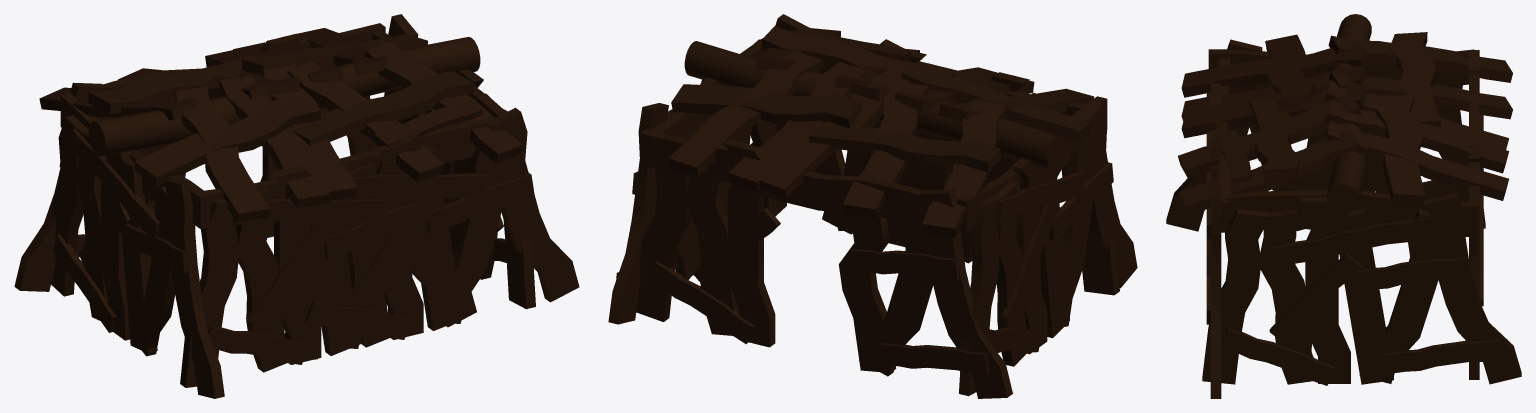
Rendered from dom1.fbx.
The picture shows the model from 3 angles, left to right: view 1: azimuth 30°, elevation 25°; view 2: azimuth 150°, elevation 25°; view 3: azimuth 270°, elevation 25°; orthographic projection. The views are drawn at different scales.
Parts seen in each view (by area): view 1: dom1 057, dom1 031, dom1 070, dom1 051, dom1 069, dom1 052, dom1 064, dom1 040, dom1 065, dom1 037, dom1 038, dom1 068 (+43 smaller); view 2: dom1 057, dom1 005, dom1 010, dom1 006, dom1 002, dom1 063, dom1 058, dom1 062, dom1 013, dom1 020, dom1 011, dom1 060 (+38 smaller); view 3: dom1 020, dom1 019, dom1 016, dom1 021, dom1 023, dom1 017, dom1 063, dom1 008, dom1 026, dom1 064, dom1 058, dom1 068 (+28 smaller).
Boxes of the visible parts, box(x1,y1,x2,y2) form: dom1 057: box(88, 37, 480, 156); dom1 031: box(164, 178, 224, 398); dom1 070: box(135, 95, 320, 186); dom1 051: box(487, 107, 579, 302); dom1 069: box(290, 71, 474, 145); dom1 052: box(426, 147, 506, 323); dom1 064: box(175, 86, 269, 222); dom1 040: box(180, 198, 238, 387); dom1 065: box(218, 75, 329, 207); dom1 037: box(270, 165, 321, 364); dom1 038: box(236, 187, 287, 372); dom1 068: box(365, 42, 523, 162); dom1 057: box(684, 41, 1063, 171); dom1 005: box(640, 129, 956, 227); dom1 010: box(919, 189, 1012, 398); dom1 006: box(636, 142, 690, 321); dom1 002: box(724, 139, 775, 347); dom1 063: box(671, 84, 862, 128); dom1 058: box(668, 51, 824, 176); dom1 062: box(809, 122, 1001, 172); dom1 013: box(835, 187, 896, 372); dom1 020: box(608, 103, 668, 324); dom1 011: box(859, 205, 934, 376); dom1 060: box(843, 81, 928, 218); dom1 020: box(1425, 192, 1521, 384); dom1 019: box(1202, 209, 1269, 384); dom1 016: box(1300, 197, 1350, 383); dom1 021: box(1359, 209, 1450, 383); dom1 023: box(1337, 209, 1393, 384); dom1 017: box(1258, 209, 1313, 384); dom1 063: box(1375, 95, 1425, 204); dom1 008: box(1225, 190, 1469, 236); dom1 026: box(1270, 217, 1434, 267); dom1 064: box(1181, 45, 1365, 97); dom1 058: box(1325, 120, 1508, 200); dom1 068: box(1178, 130, 1362, 215).
Size of the model in its own units: 96.35 by 48.74 by 73.81.
